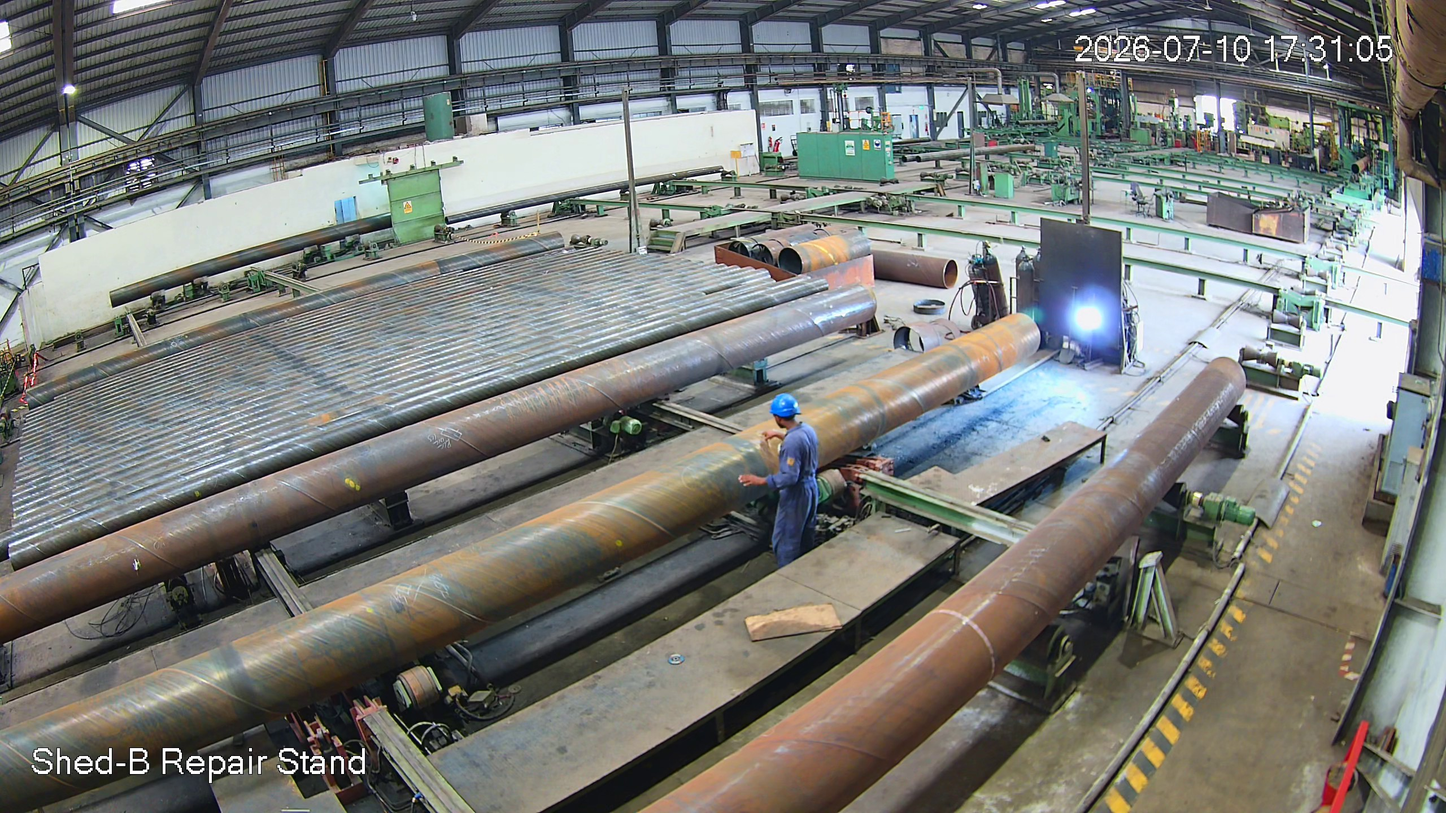Helmet: (768, 392, 816, 442)
Person: (756, 394, 829, 564)
